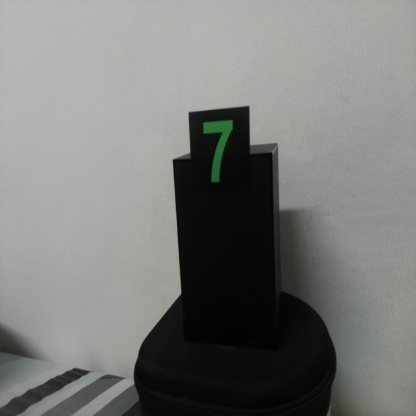id_7: (189, 111, 251, 200)
